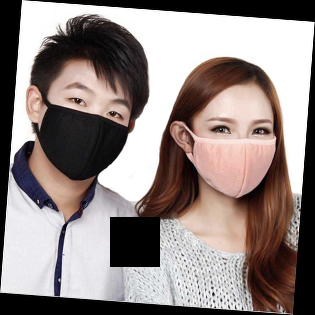with_mask: (38, 79, 128, 184), (191, 114, 277, 200)
